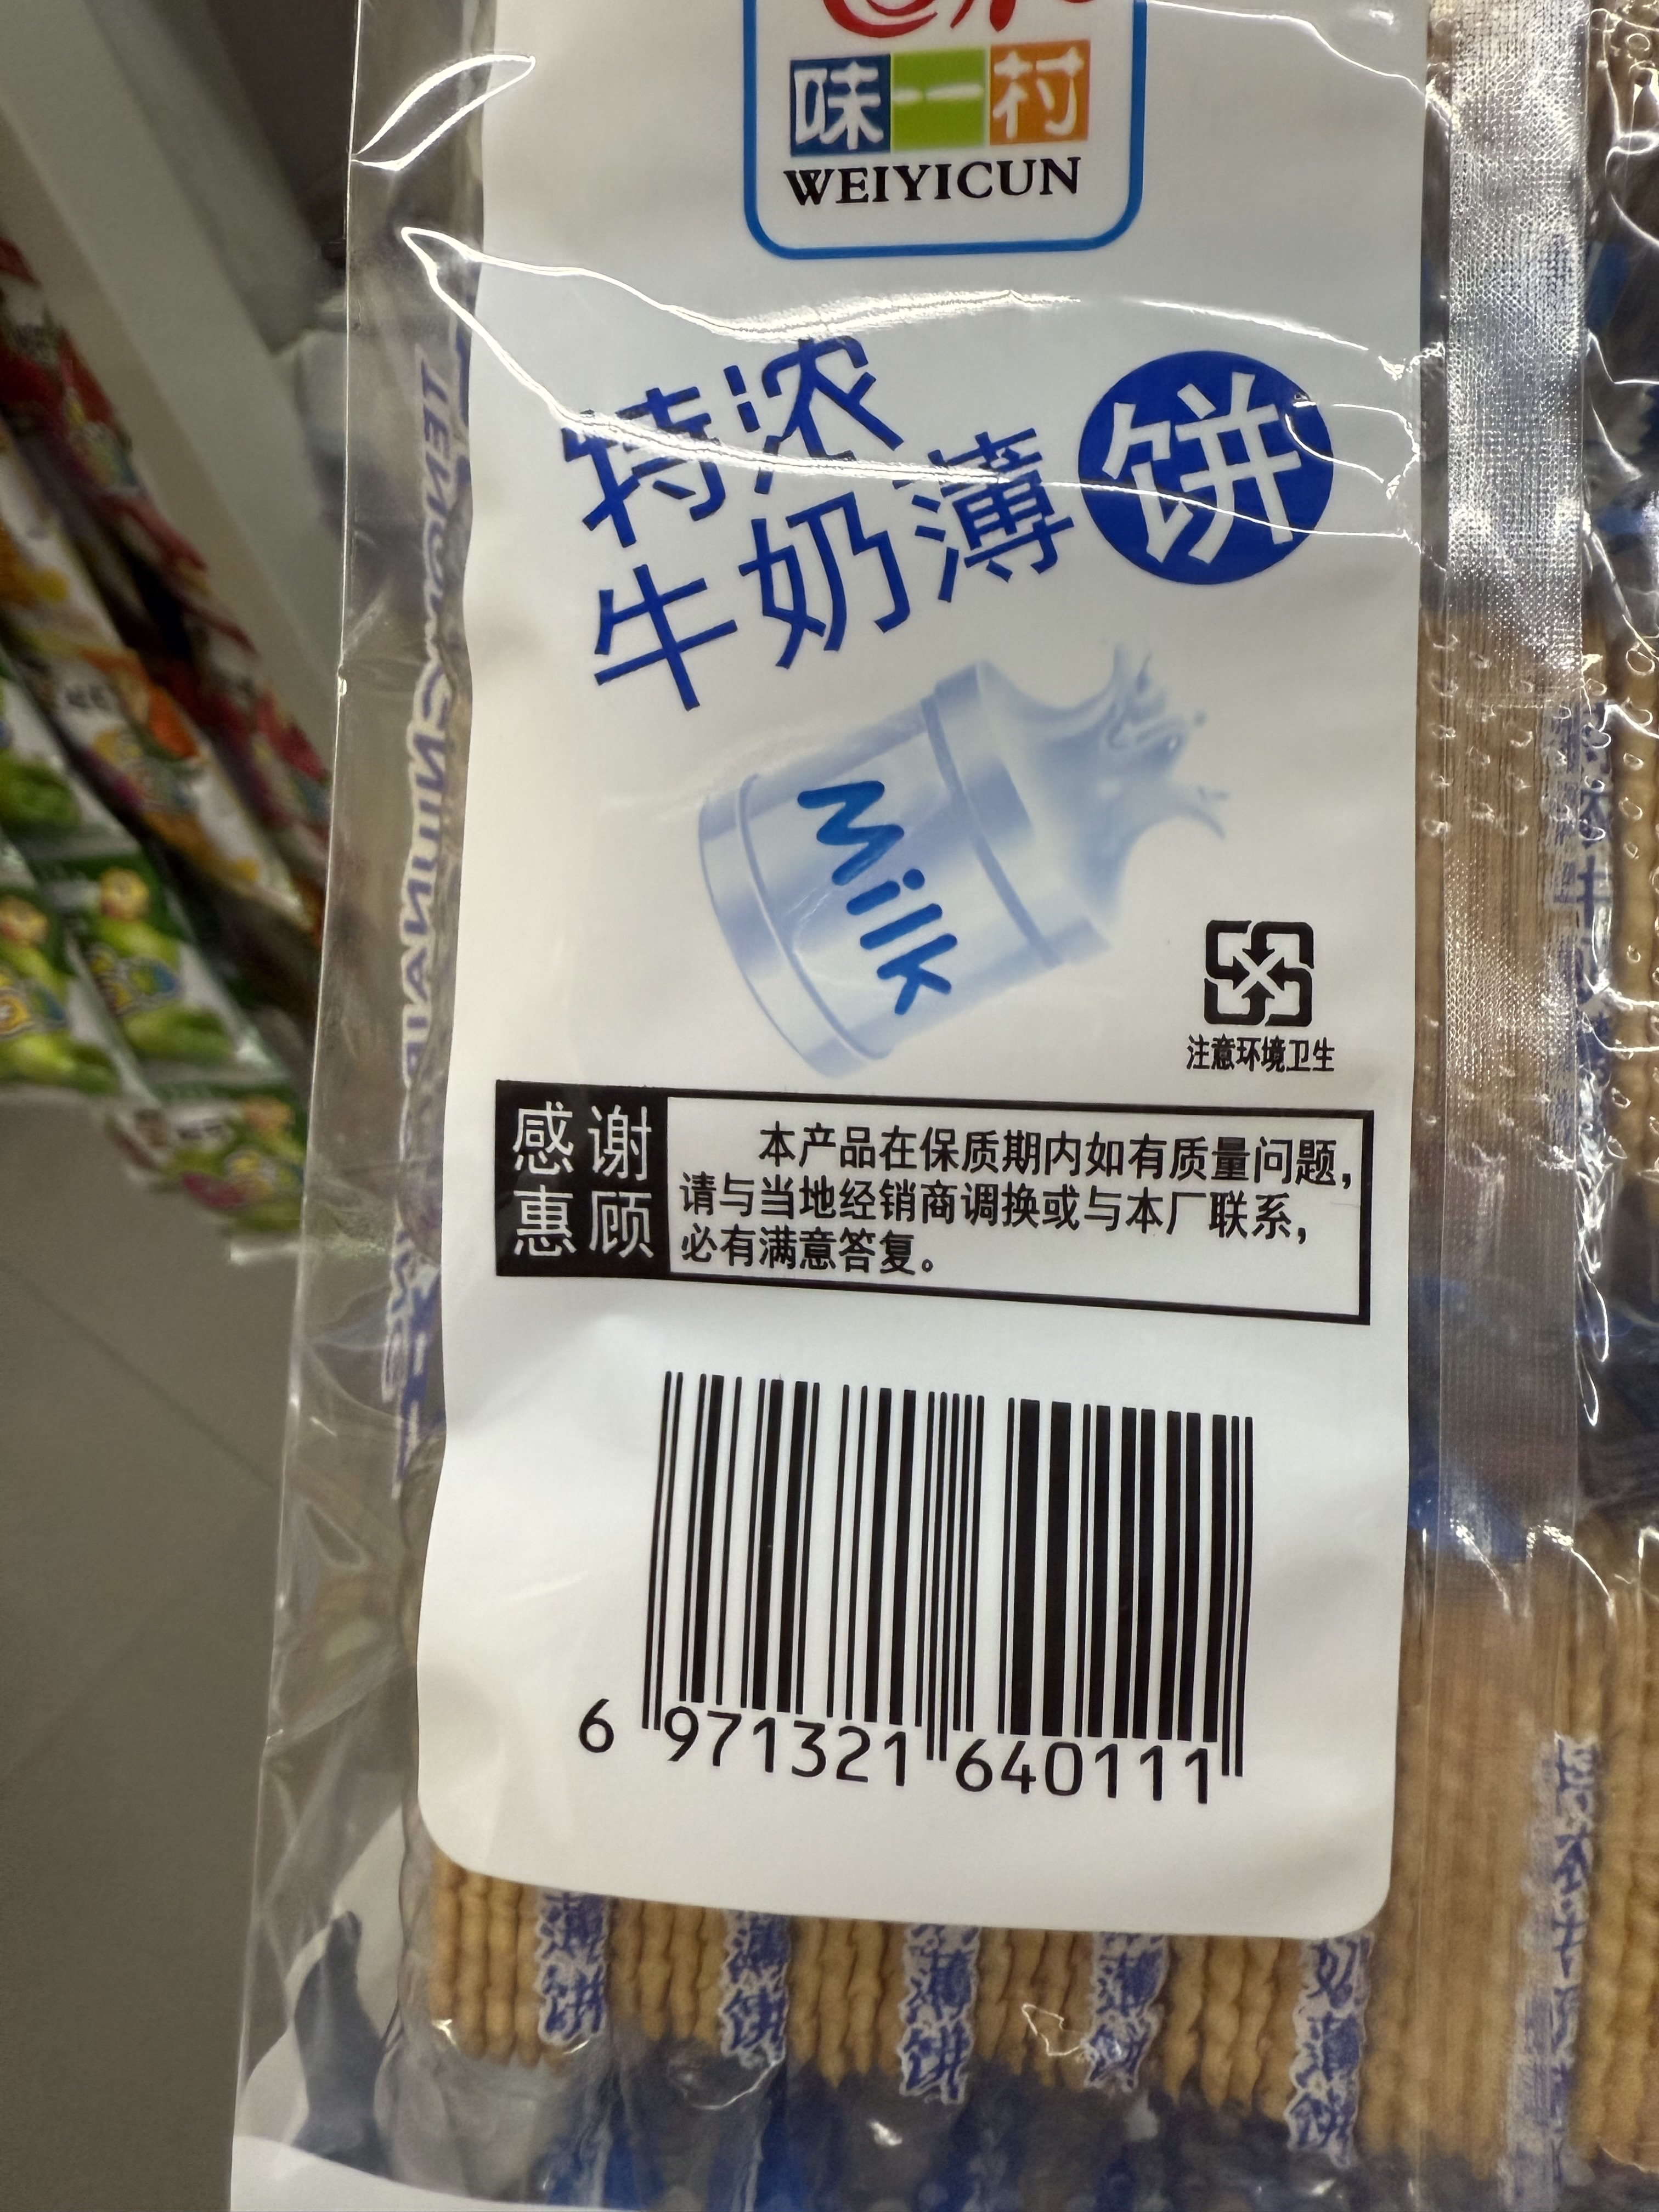bar: (627, 1350, 1279, 1799)
